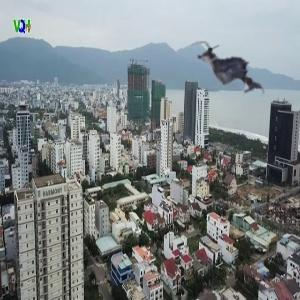drone: (187, 27, 276, 116)
